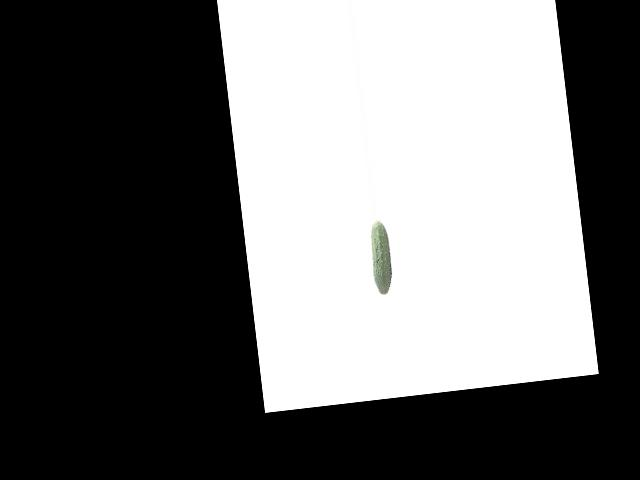cucumber: (367, 220, 394, 295)
